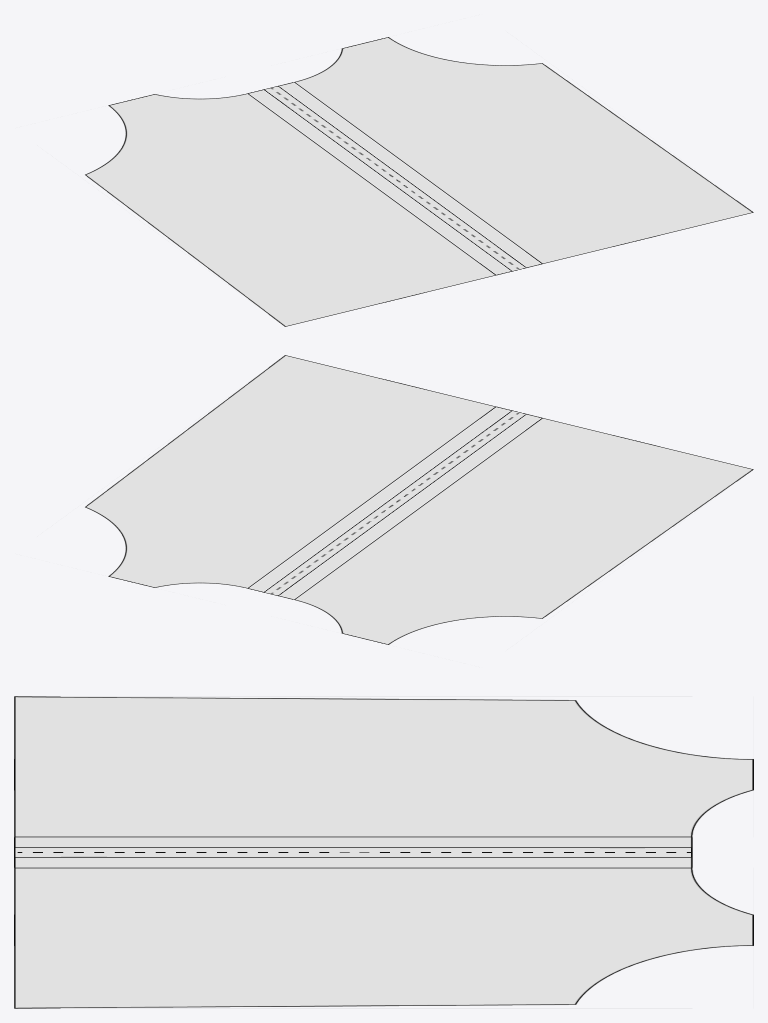
Rendered from sewing_gltf_3.glb.
3 views of the same model, one above another, from view 1: azimuth 30°, elevation 25°; view 2: azimuth 150°, elevation 25°; view 3: azimuth 270°, elevation 25° (orthographic). The views are drawn at different scales.
Visible parts, largest first — view 1: txt-sleeve.001, txt-sleeve, txt-mid, txt-fold, txt-fold.001; view 2: txt-sleeve, txt-sleeve.001, txt-mid, txt-fold.001, txt-fold; view 3: txt-sleeve, txt-sleeve.001, txt-mid, txt-fold, txt-fold.001.
Part boxes in pixels (box(x1,y1,x2,y2)): txt-sleeve.001: box(294, 37, 753, 263); txt-sleeve: box(85, 93, 496, 326); txt-mid: box(263, 86, 526, 271); txt-fold: box(248, 89, 511, 275); txt-fold.001: box(278, 82, 541, 267); txt-sleeve: box(294, 418, 753, 644); txt-sleeve.001: box(85, 355, 496, 588); txt-mid: box(263, 410, 526, 595); txt-fold.001: box(248, 406, 511, 592); txt-fold: box(278, 414, 541, 599); txt-sleeve: box(14, 696, 753, 837); txt-sleeve.001: box(14, 867, 753, 1008); txt-mid: box(14, 847, 692, 857); txt-fold: box(14, 837, 692, 847); txt-fold.001: box(14, 857, 692, 867).
Size of the model in its own units: 29.14 by 0 by 29.2.
3 materials, 3 textured.
